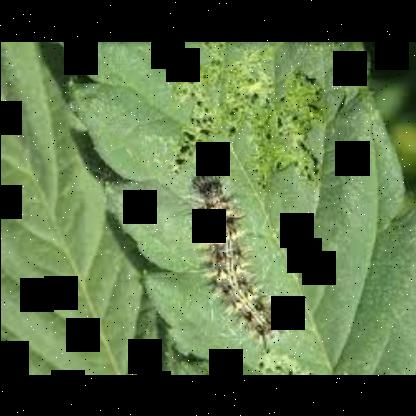oruga: (180, 156, 288, 348)
